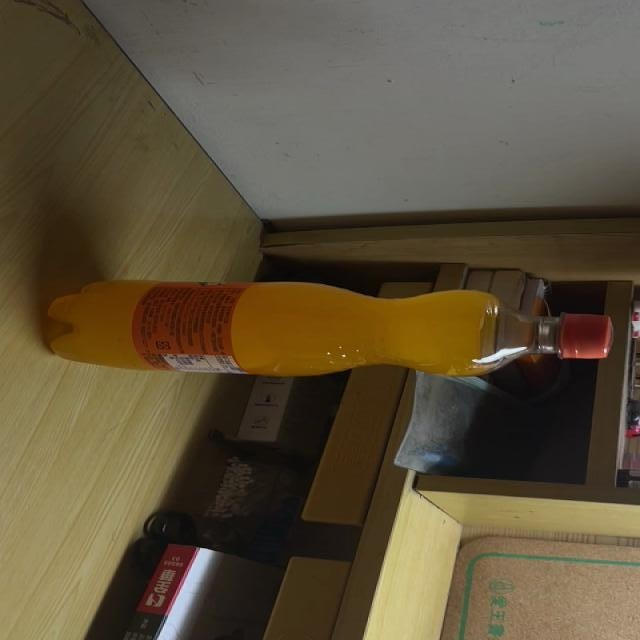Fanta: (40, 279, 614, 378)
